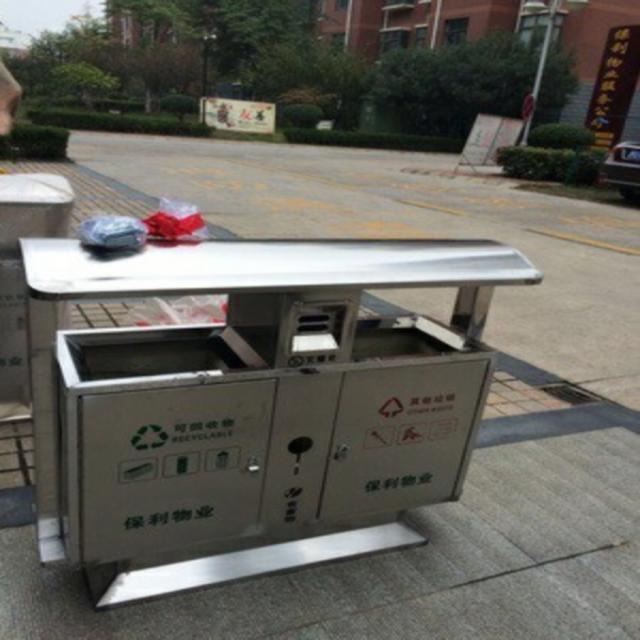ash bin: (11, 234, 544, 606)
